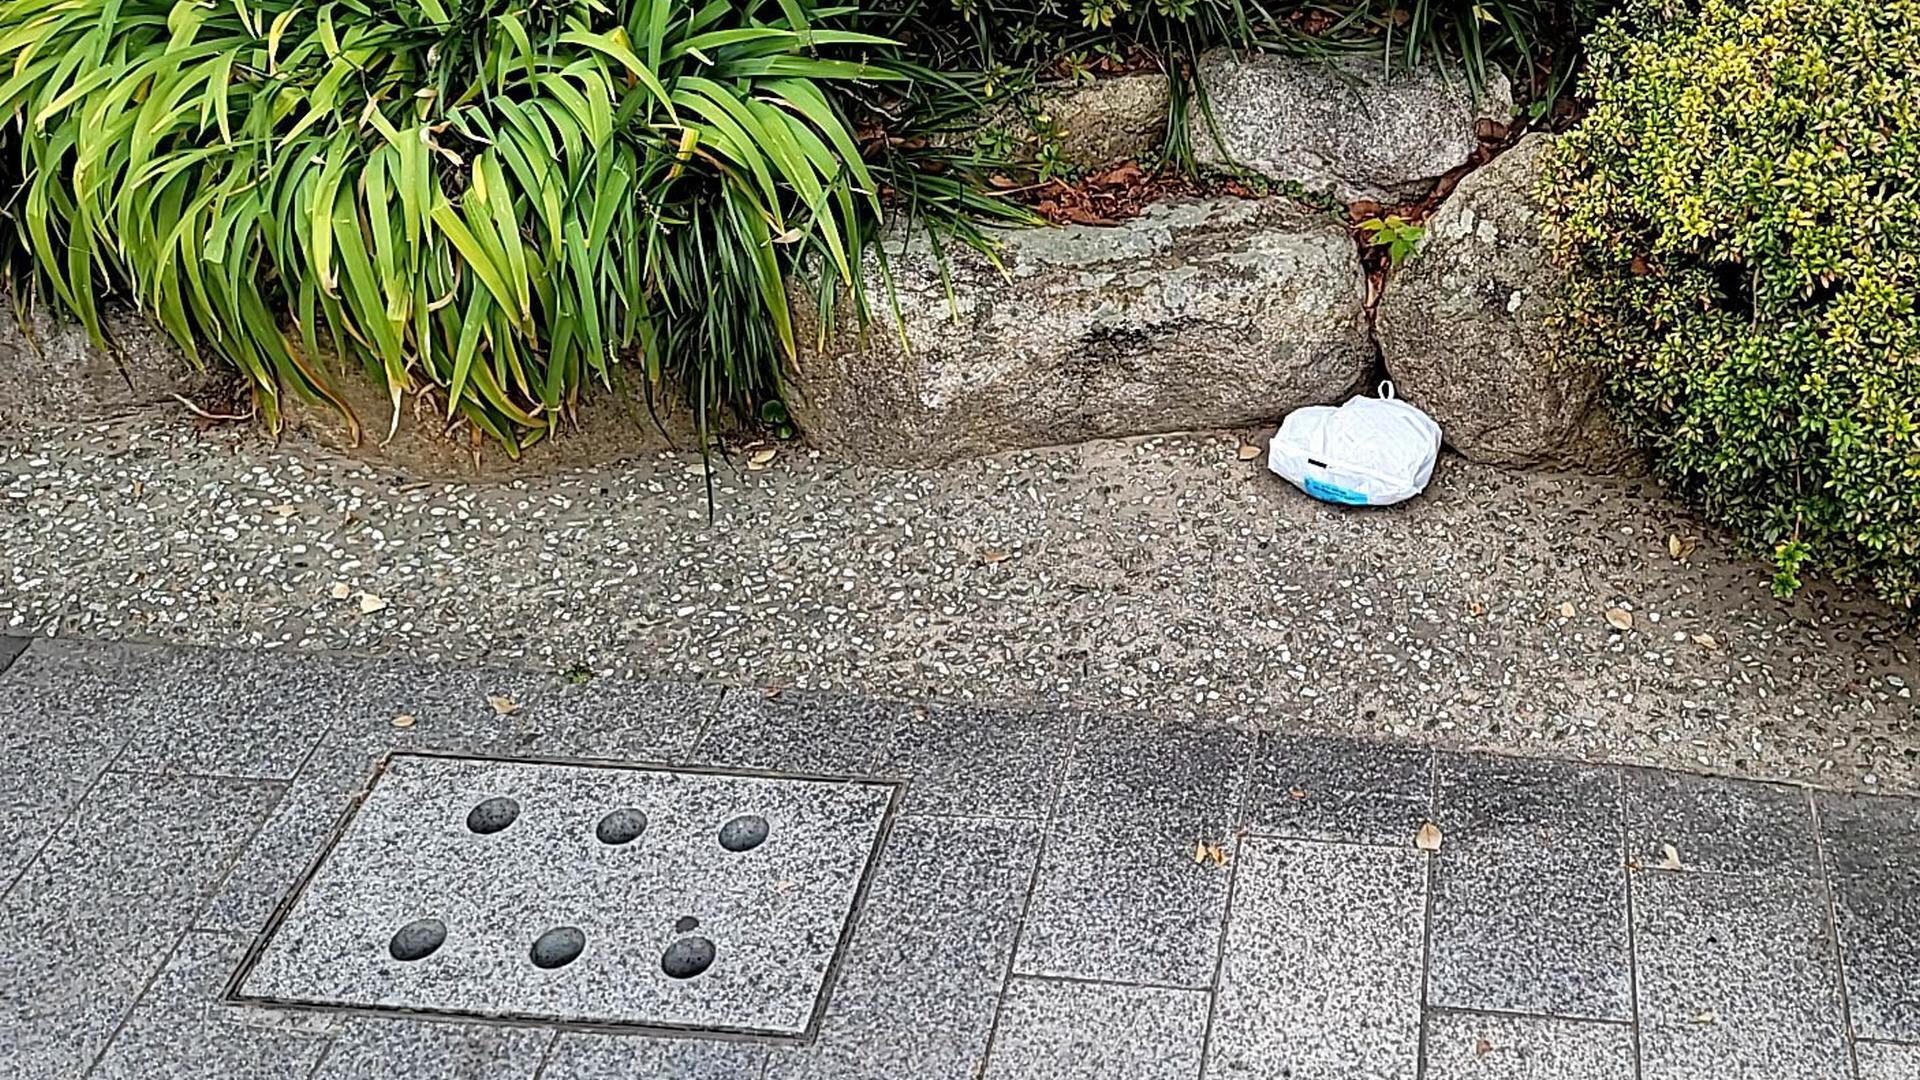white_bag: (1254, 371, 1456, 530)
